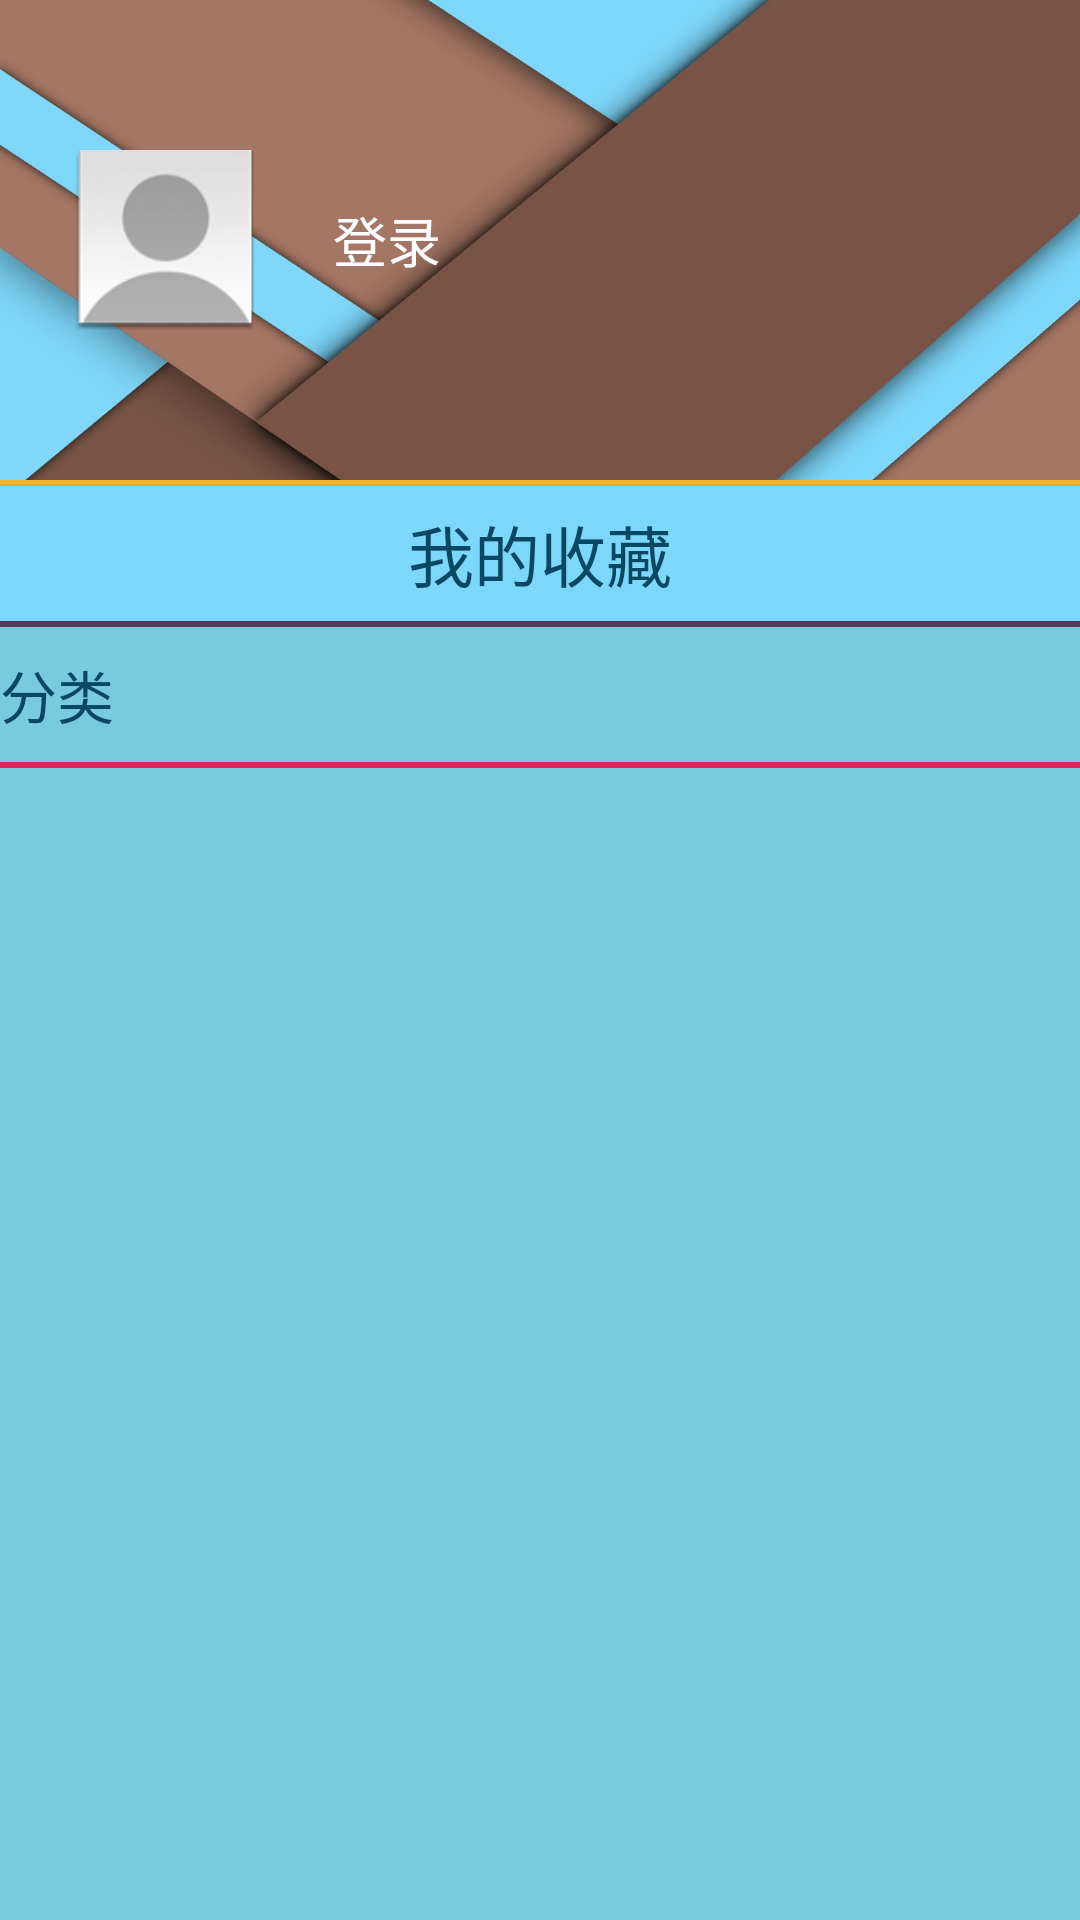

Named icons in this screenshot (1080x1920) and their bounding boxes, {"left": x1, "top": y1, "right": x2, "bottom": y2}:
login: {"left": 75, "top": 150, "right": 255, "bottom": 330}
